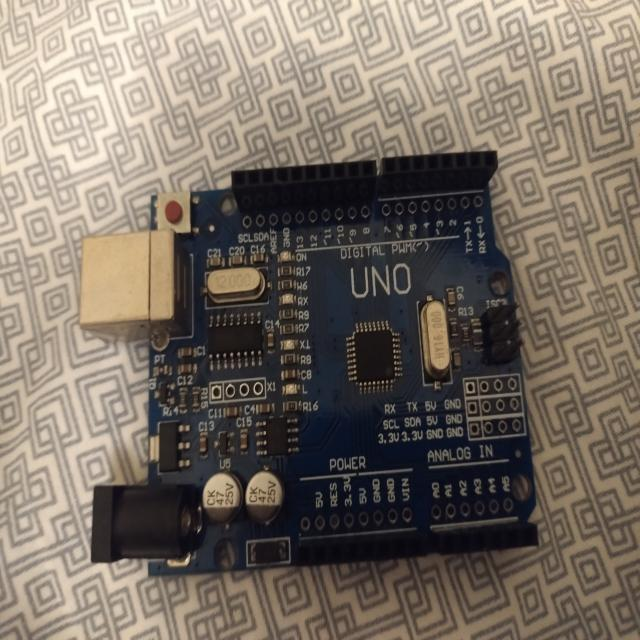arduino: (73, 136, 553, 580)
